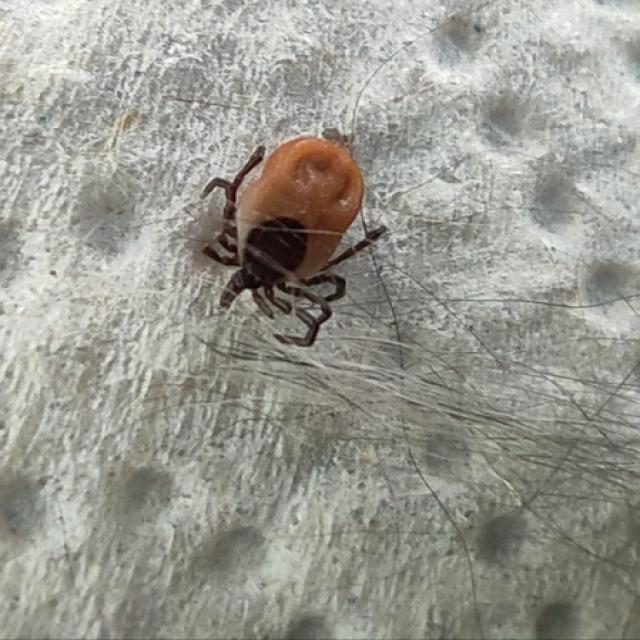Ixodes Ricinus-F-Fed: (188, 136, 388, 348)
